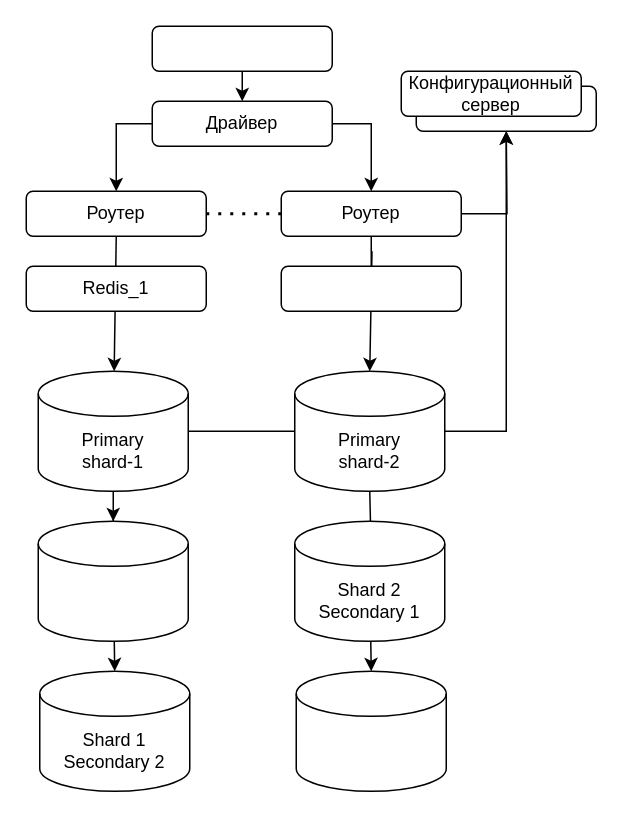
Image size: 623x818. Some labels were removed from this diagram. The centre of each missing label's shape, as x and y in pixels:
pymongo-api: the point at 241,48
Redis_2: the point at 370,288
Shard 1 Secondary 1: the point at 112,580
Shard 2 Secondary 2: the point at 370,730
